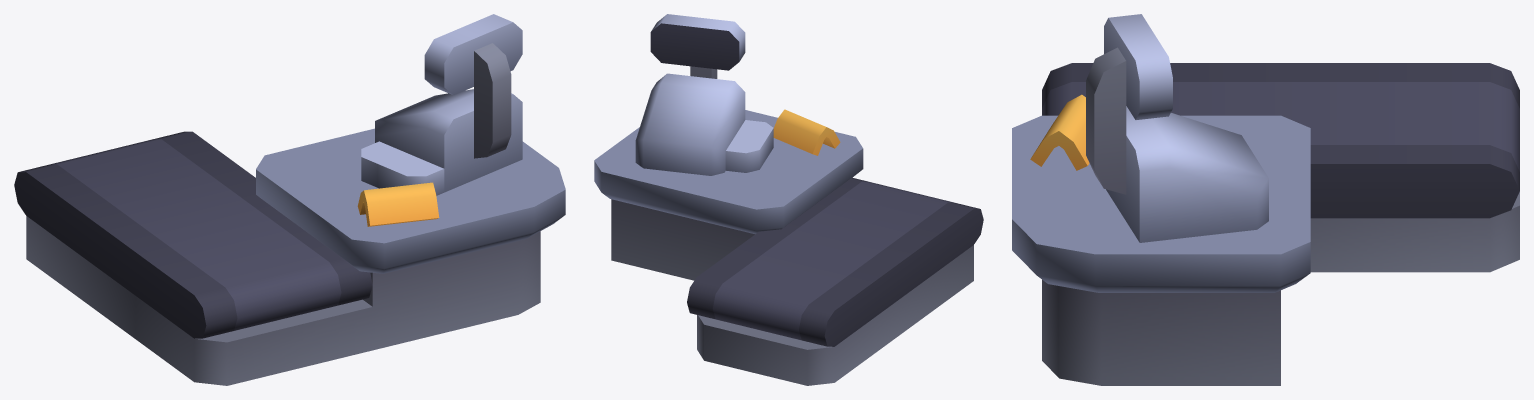
File: cash-register.obj
3 views of the same model, side by side, from view 1: azimuth 30°, elevation 25°; view 2: azimuth 150°, elevation 25°; view 3: azimuth 270°, elevation 25° (orthographic). The views are drawn at different scales.
Visible parts, largest first — view 1: cash-register; view 2: cash-register; view 3: cash-register.
Part boxes in pixels (x1,y1,x2,y2): cash-register: (14,14,565,385); cash-register: (594,14,983,385); cash-register: (1012,14,1519,385).
Size of the model in its own units: 0.9 by 0.5906 by 0.85.
Materials: 1 (1 with a texture image).
